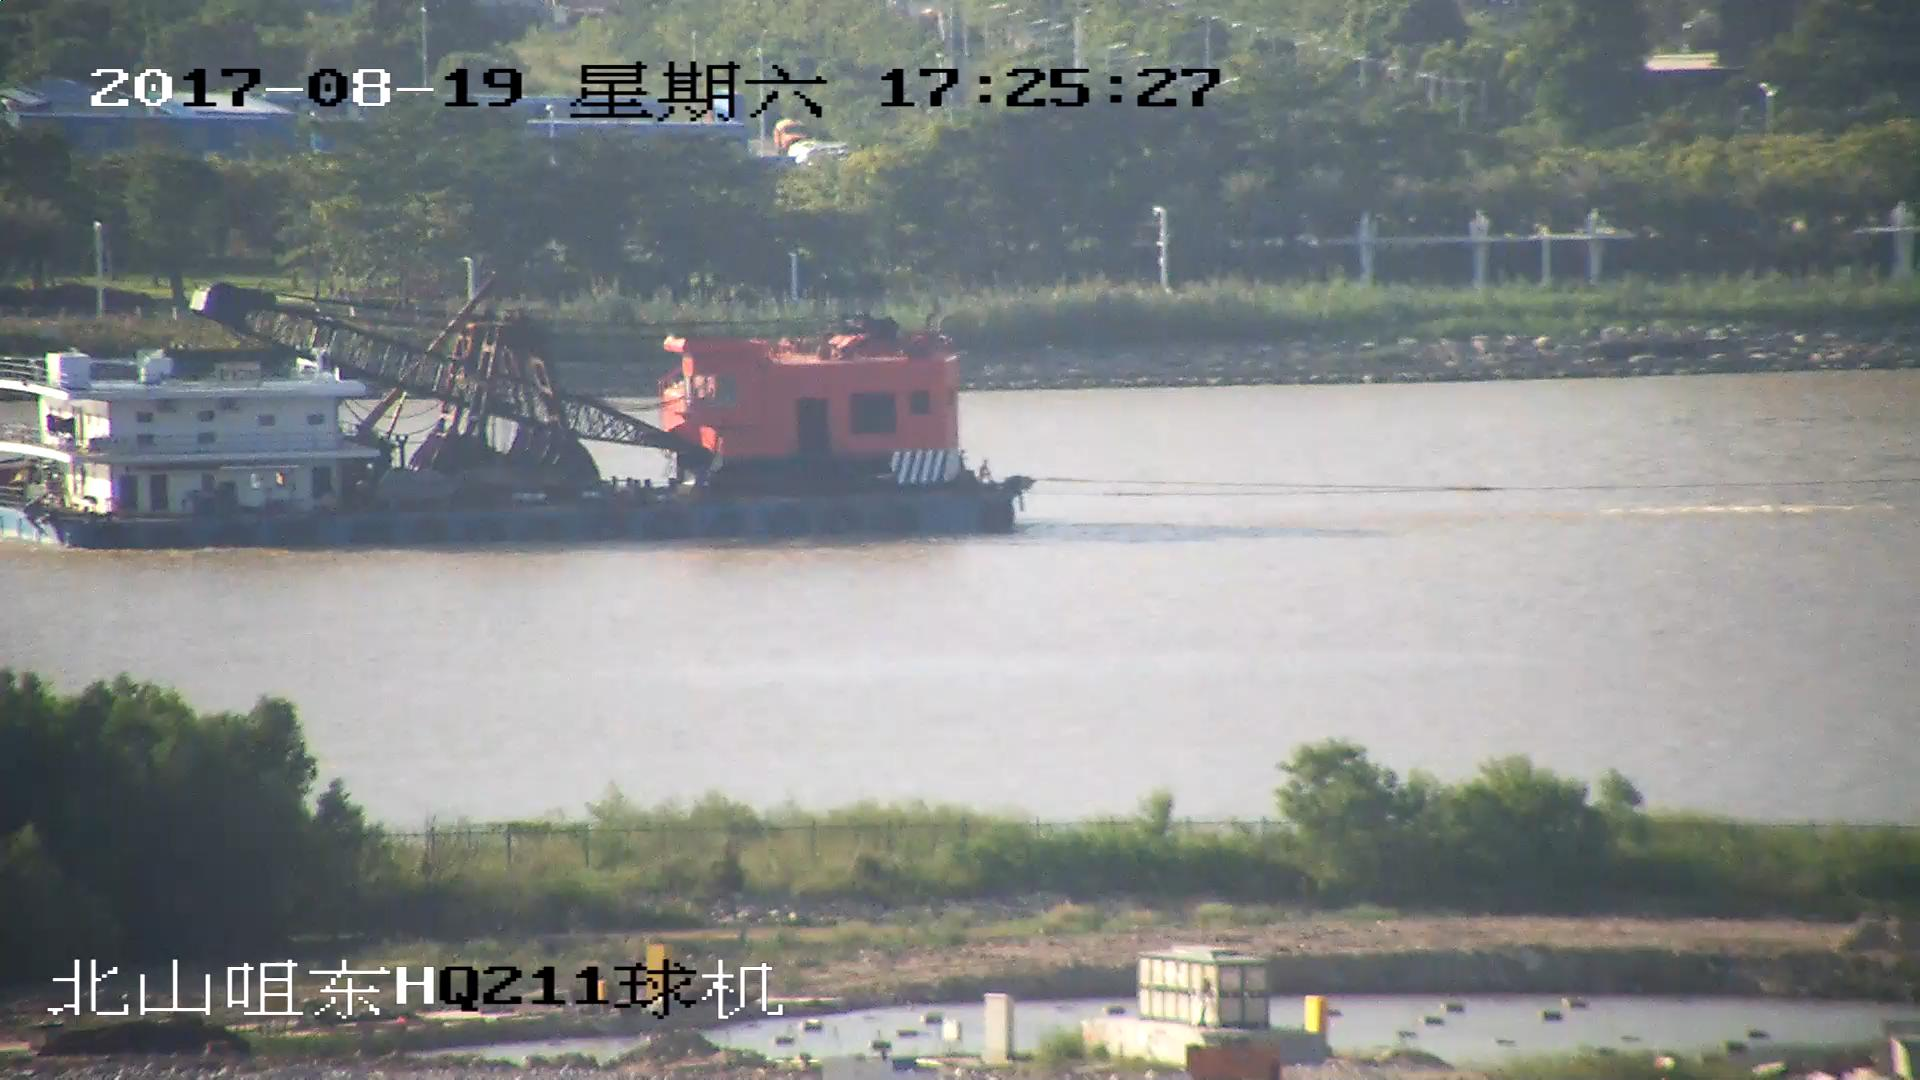fishing boat: (1, 277, 1024, 542)
